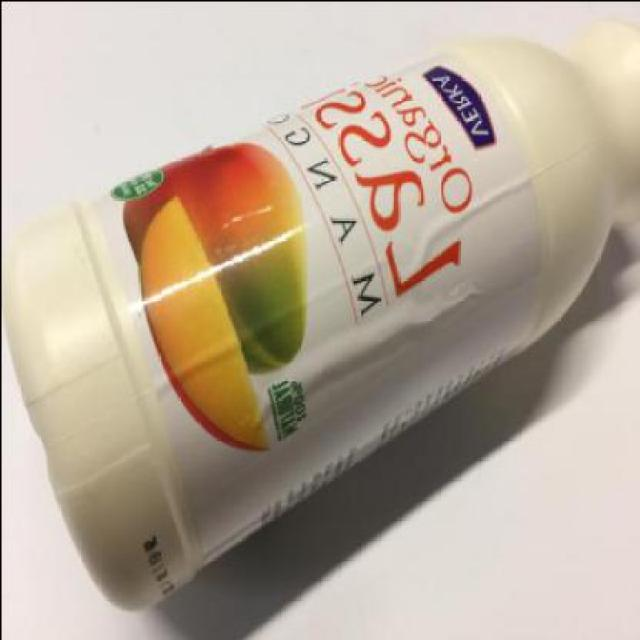PLASTIC: (1, 14, 638, 609)
